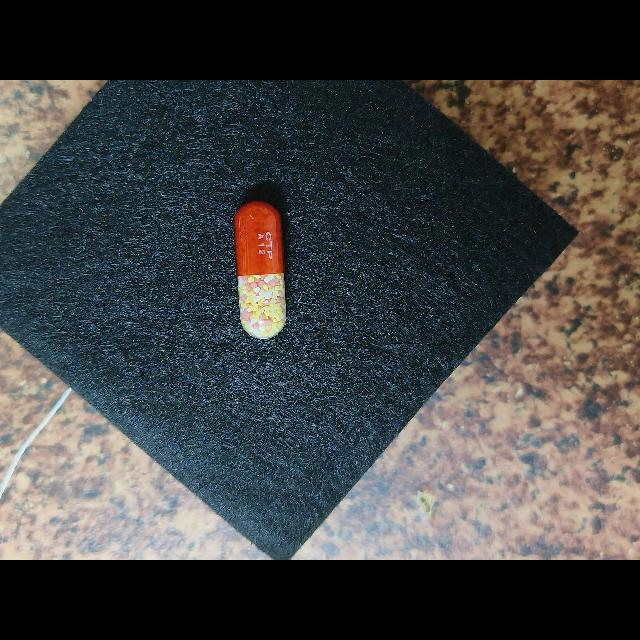Intact Capsule: (233, 201, 286, 339)
